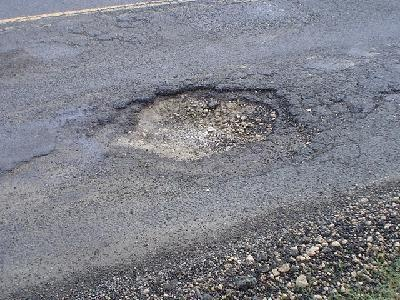pothole: (85, 80, 310, 167)
